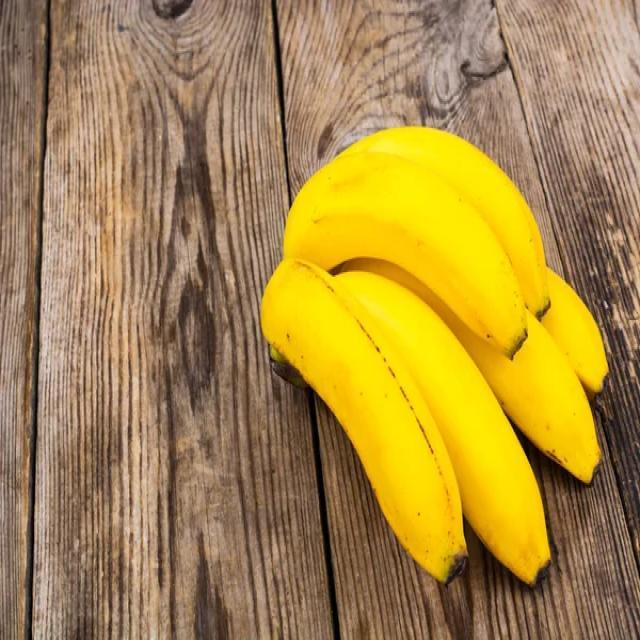banana: (257, 118, 614, 592)
